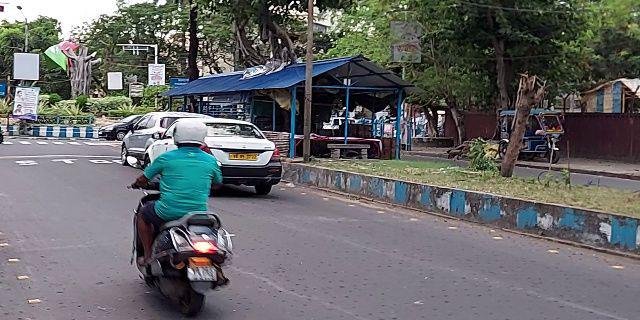Car: (143, 114, 281, 200), (116, 113, 171, 160)
Motorbike: (122, 125, 242, 312)
